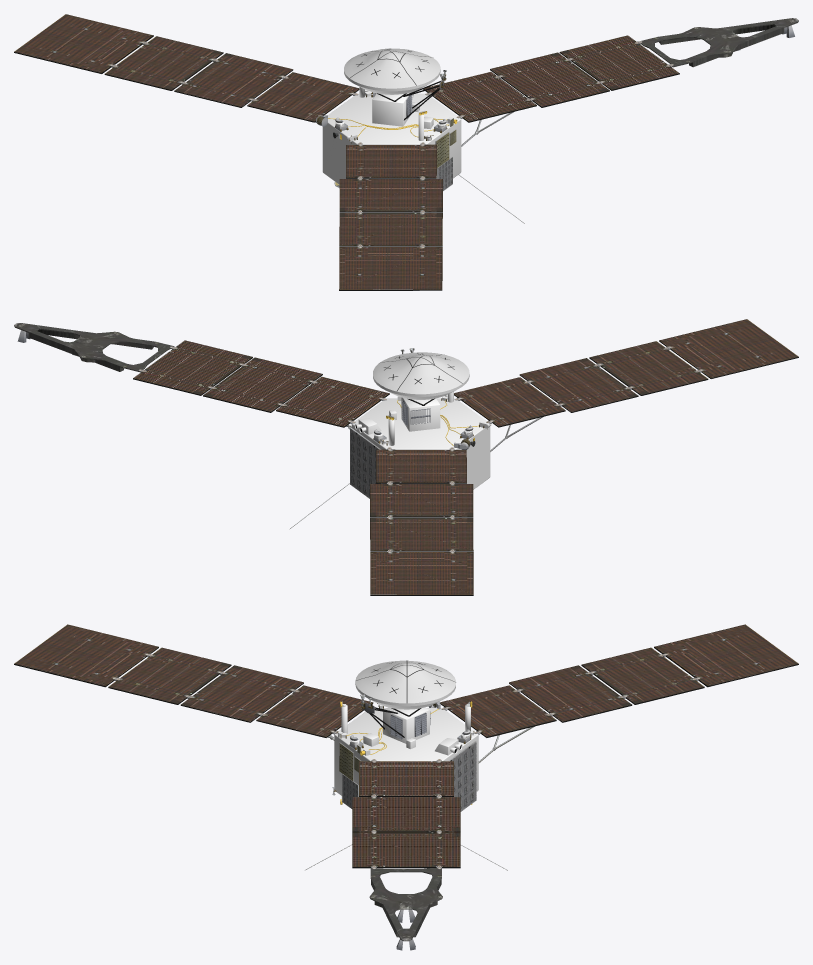
The model's file is juno.glb.
3 renders of one model, top to bottom at view 1: azimuth 30°, elevation 25°; view 2: azimuth 150°, elevation 25°; view 3: azimuth 270°, elevation 25°, orthographic. The views are drawn at different scales.
Parts seen in each view (by area): view 1: shiny_panels, dish_bottom, dish_top, solar_panels, silver_foil.003, black_krinkle; view 2: shiny_panels, dish_bottom, dish_top, silver_foil.003, solar_panels, black_krinkle; view 3: shiny_panels, dish_bottom, silver_foil.003, dish_top, solar_panels, black_krinkle.
Part boxes in pixels (<box>): shiny_panels: <box>14,14,679,289</box>; dish_bottom: <box>322,69,461,184</box>; dish_top: <box>344,48,440,88</box>; solar_panels: <box>373,18,798,290</box>; silver_foil.003: <box>110,25,794,247</box>; black_krinkle: <box>14,35,679,290</box>; shiny_panels: <box>133,319,798,594</box>; dish_bottom: <box>351,374,490,489</box>; dish_top: <box>373,352,469,394</box>; silver_foil.003: <box>17,330,702,552</box>; solar_panels: <box>14,323,396,594</box>; black_krinkle: <box>133,340,798,595</box>; shiny_panels: <box>14,624,798,866</box>; dish_bottom: <box>334,682,478,800</box>; silver_foil.003: <box>112,653,699,950</box>; dish_top: <box>355,660,455,703</box>; solar_panels: <box>369,868,442,941</box>; black_krinkle: <box>14,647,798,868</box>.
Size of what is drawn, in the model's own units: 17.65 by 4.26 by 18.54.
13 materials, 7 textured.
